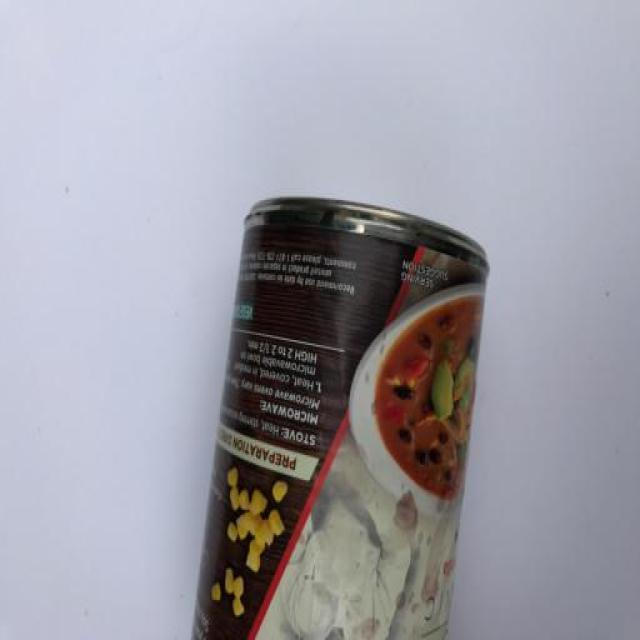metal: (186, 194, 490, 638)
